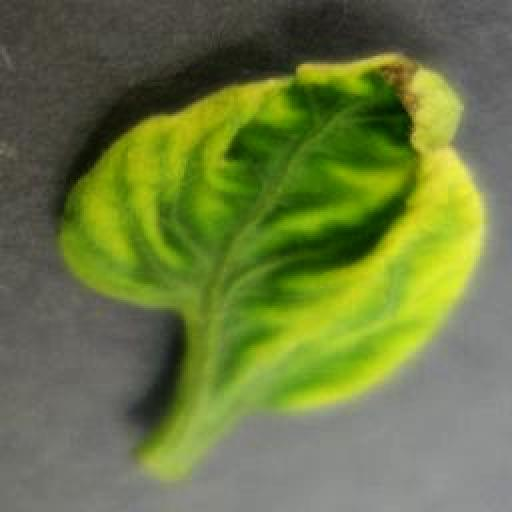disease_tomato: (54, 54, 488, 416)
